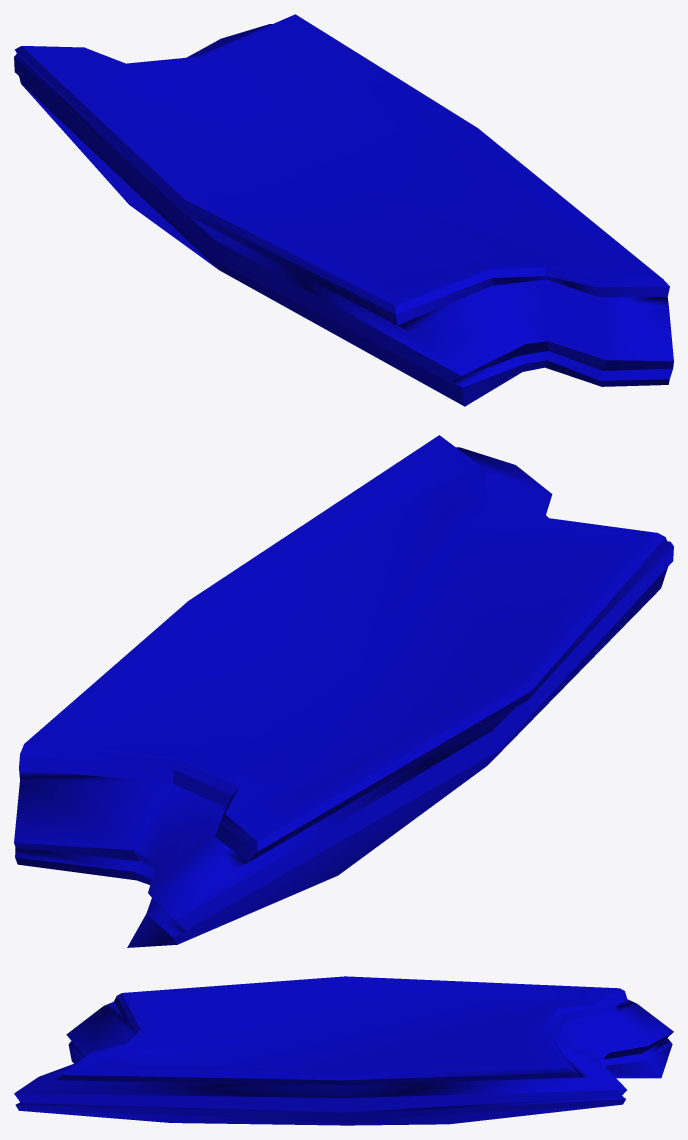
File: LargeDungeonPlatform2.fbx
The picture shows the model from 3 angles, top to bottom: view 1: azimuth 30°, elevation 25°; view 2: azimuth 150°, elevation 25°; view 3: azimuth 270°, elevation 25°; orthographic projection. The views are drawn at different scales.
Visible parts, largest first — view 1: BrickPlatform004; view 2: BrickPlatform004; view 3: BrickPlatform004.
Boxes of the visible parts, x1,y1,x2,y2 form: BrickPlatform004: (14,14,673,406); BrickPlatform004: (14,435,673,947); BrickPlatform004: (14,976,673,1125).
Size of the model in its own units: 728 by 2008 by 262.
